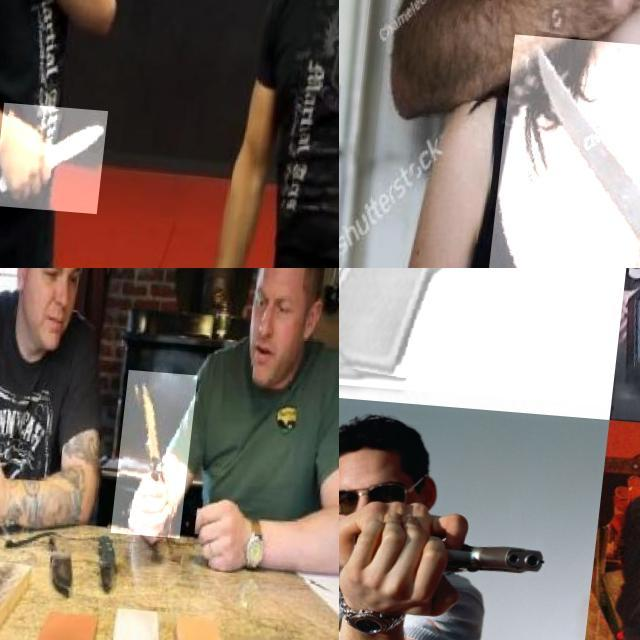-: (499, 29, 640, 268), (121, 364, 204, 532), (4, 100, 118, 210)
gun-knife-thesis - v11 Yolov5 augmented: (339, 268, 640, 423), (428, 532, 560, 578)
